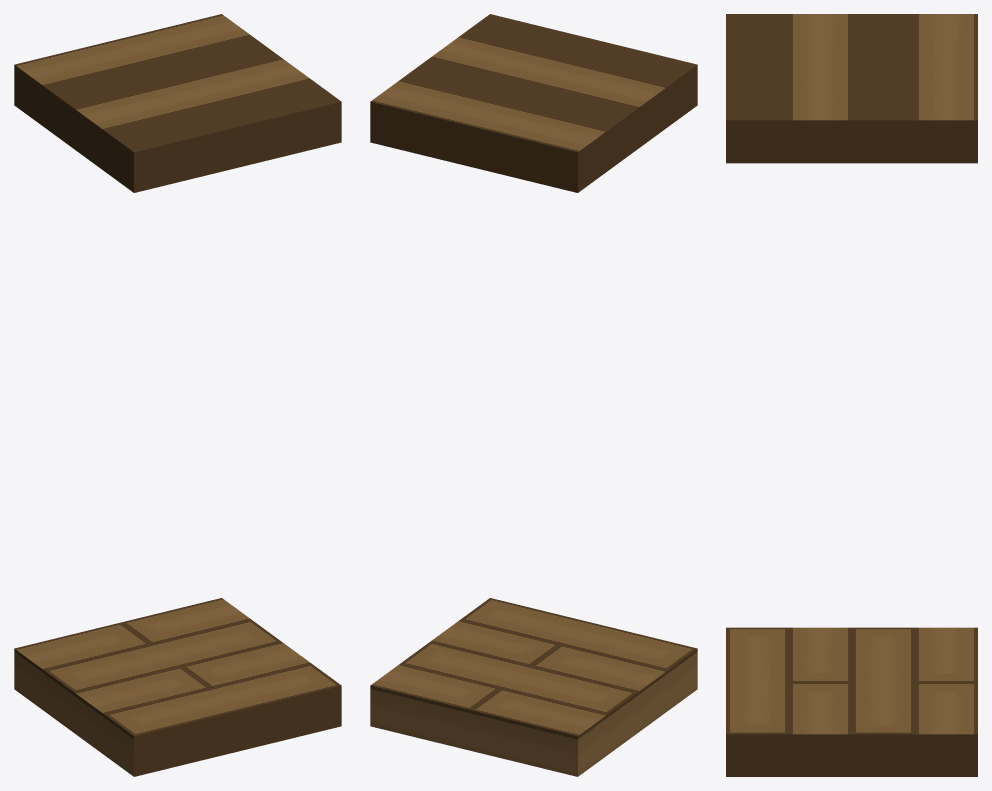
The model's file is HomeMid.obj.
3 views of the same model, side by side, from view 1: azimuth 30°, elevation 25°; view 2: azimuth 150°, elevation 25°; view 3: azimuth 270°, elevation 25° (orthographic). The views are drawn at different scales.
Parts seen in each view (by area): view 1: Mid; view 2: Mid; view 3: Mid.
Part boxes in pixels (x1,y1,x2,y2): Mid: (14, 14, 341, 776); Mid: (370, 14, 697, 776); Mid: (726, 14, 977, 776).
Size of the model in its own units: 1 by 2.88 by 1.
Materials: 1 (1 with a texture image).
